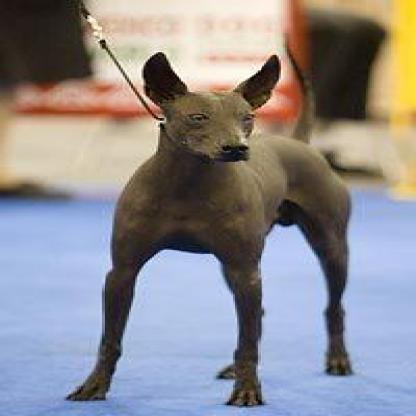Mexican_hairless: (64, 52, 350, 405)
